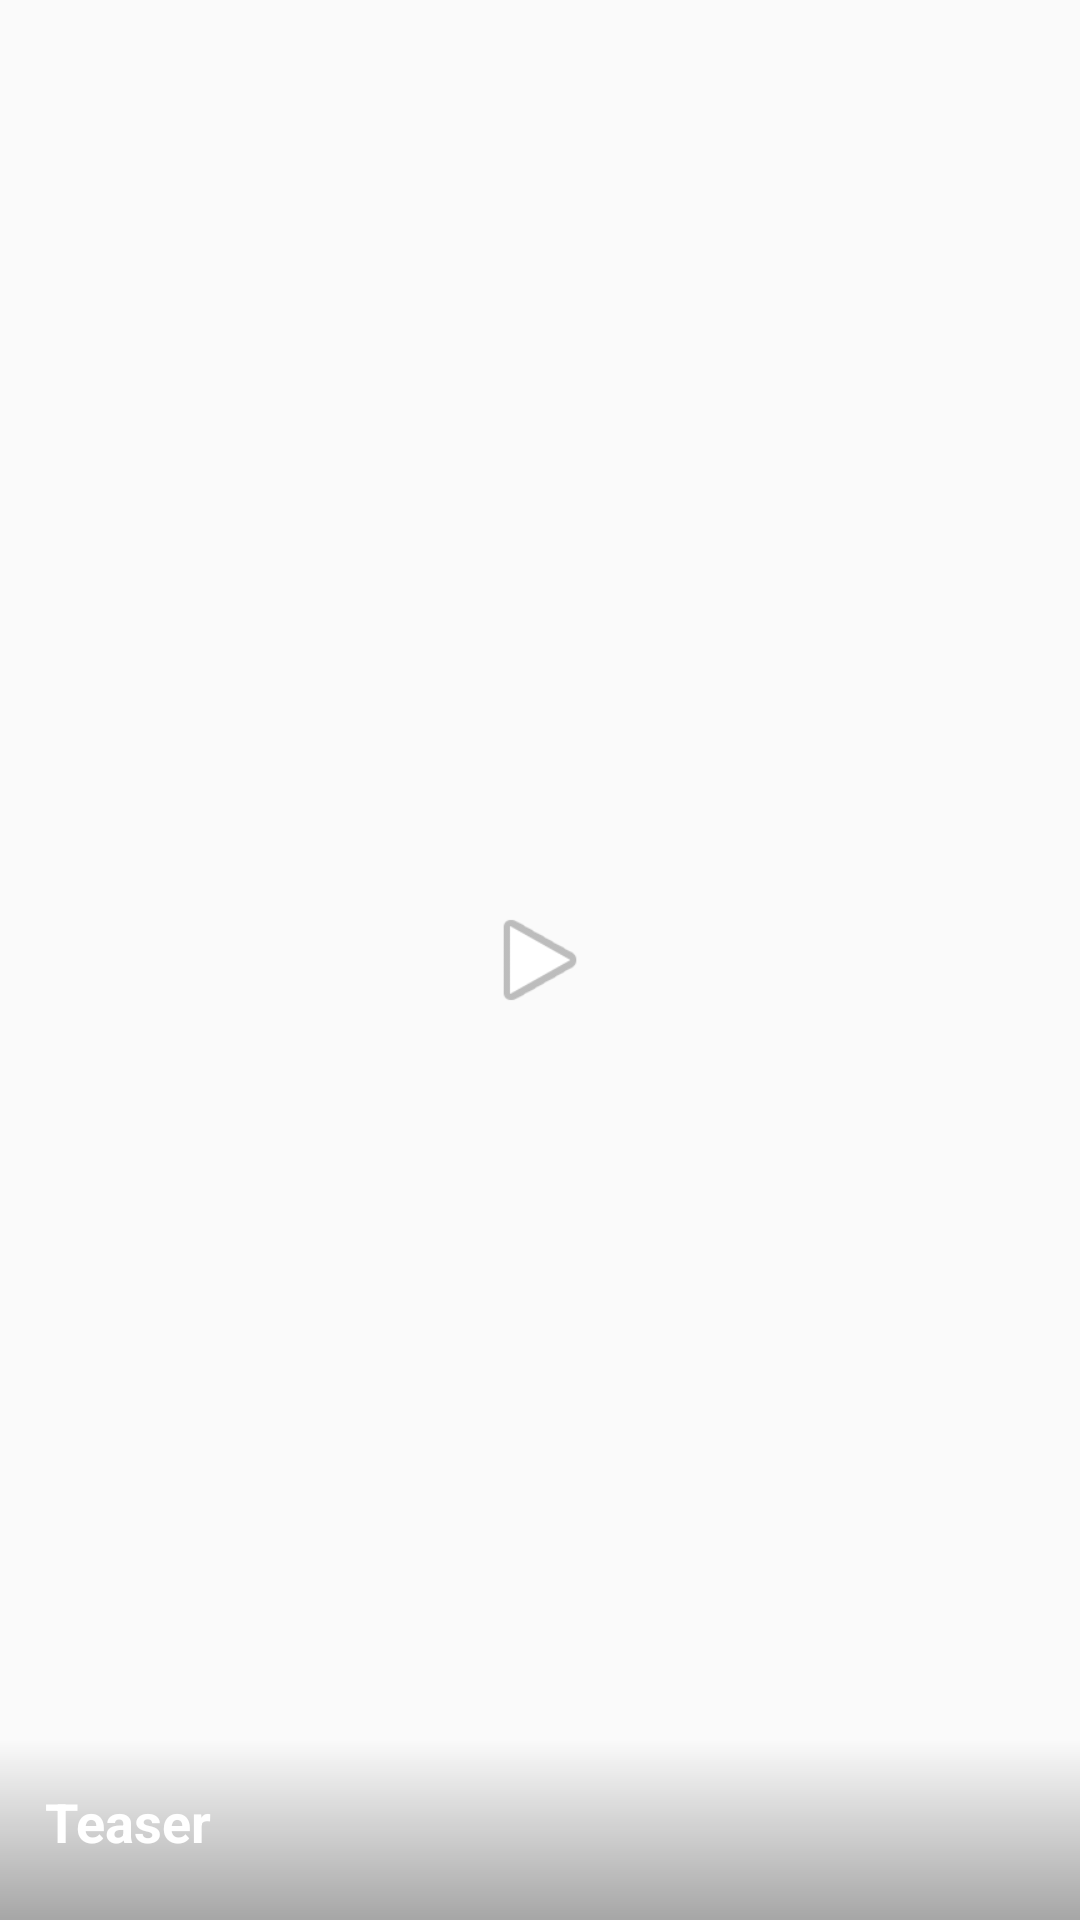

Icons on this 1080 x 1920 Android screen, each with the point to tap as (x=x, y=y):
play: (x=540, y=960)
